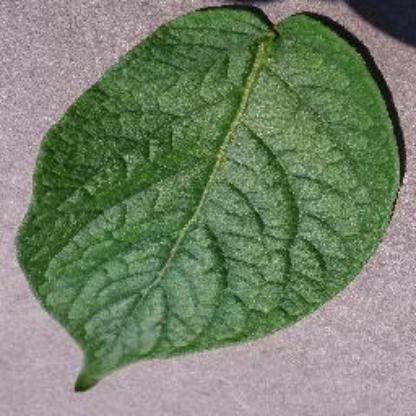Healthy-plant: (13, 7, 407, 393)
